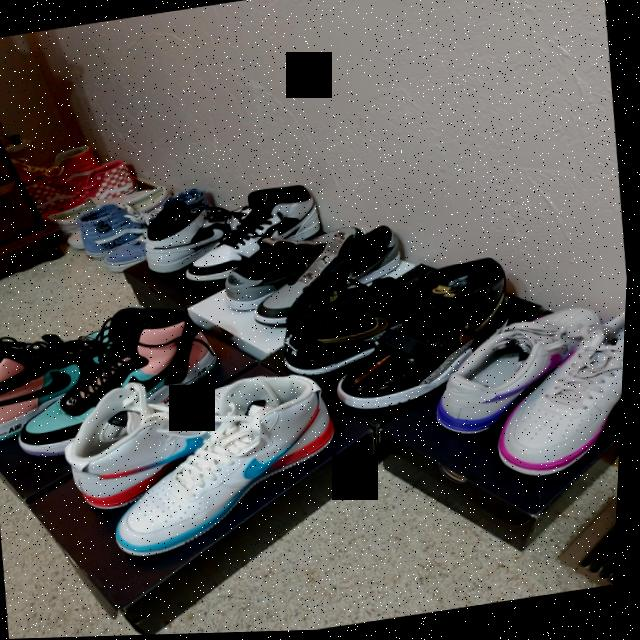shoes: (102, 376, 344, 561), (57, 368, 307, 511), (10, 304, 217, 458), (328, 257, 523, 411), (481, 330, 628, 485), (427, 306, 609, 411), (245, 225, 410, 328), (168, 184, 327, 285), (272, 275, 417, 377), (0, 314, 114, 416), (215, 220, 348, 306), (138, 198, 247, 274)
